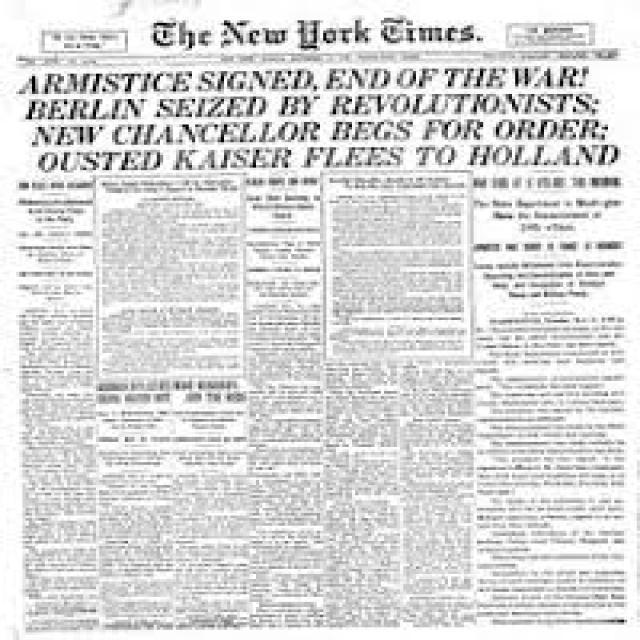cardboard: (9, 7, 636, 633)
